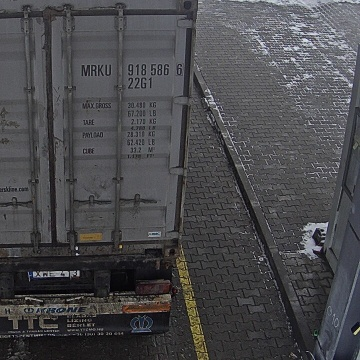serial_id: (81, 64, 182, 76)
